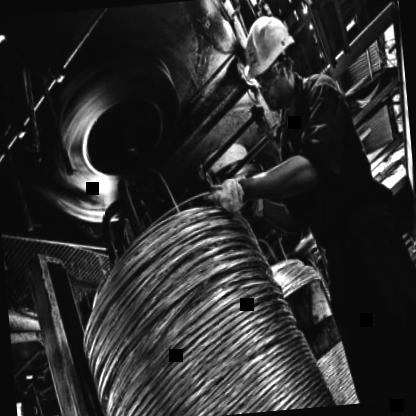helmet: (238, 4, 311, 116)
